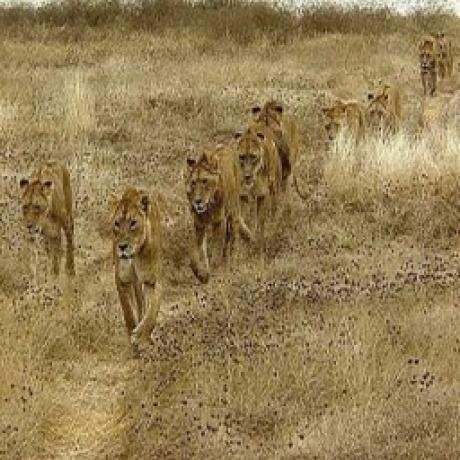Lion: (102, 179, 170, 342), (179, 146, 249, 280), (14, 153, 76, 279), (236, 124, 280, 228), (320, 98, 369, 142), (415, 37, 438, 100), (256, 101, 292, 141), (366, 87, 392, 139), (440, 31, 454, 79)
